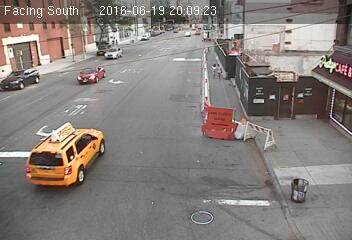neg: (130, 24, 140, 39), (99, 40, 107, 51), (143, 29, 149, 37)
pos: (212, 60, 224, 75), (208, 62, 218, 76)
